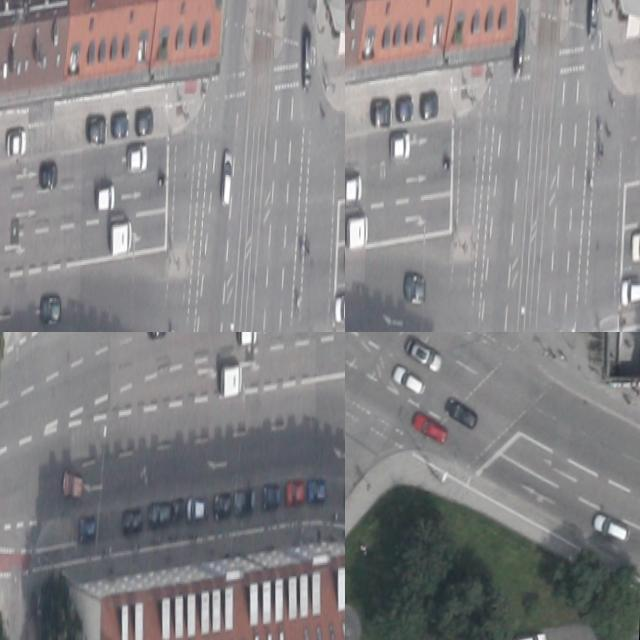UAI: (404, 335, 445, 374), (411, 410, 451, 445), (591, 512, 632, 545), (444, 396, 480, 430), (392, 364, 428, 397), (512, 11, 527, 77), (403, 273, 426, 304), (221, 150, 233, 206), (301, 31, 312, 91), (234, 489, 256, 519), (86, 113, 107, 144), (148, 501, 171, 529), (40, 294, 61, 324), (390, 130, 411, 160), (62, 471, 83, 501), (134, 104, 154, 135), (419, 89, 439, 120), (96, 182, 116, 212), (127, 146, 148, 174), (370, 98, 391, 126), (121, 507, 142, 535), (213, 491, 232, 521), (6, 129, 26, 157), (620, 278, 640, 306), (112, 110, 130, 140), (39, 161, 58, 189), (262, 483, 281, 511), (396, 93, 414, 121), (285, 480, 304, 506), (186, 497, 204, 523), (79, 516, 95, 544), (345, 174, 362, 200), (171, 494, 185, 525), (588, 0, 599, 38), (307, 480, 325, 503), (513, 630, 548, 640), (333, 295, 345, 323), (237, 332, 258, 346), (146, 332, 166, 340)
harvester: (220, 363, 244, 401), (109, 217, 132, 255), (346, 212, 369, 250)
